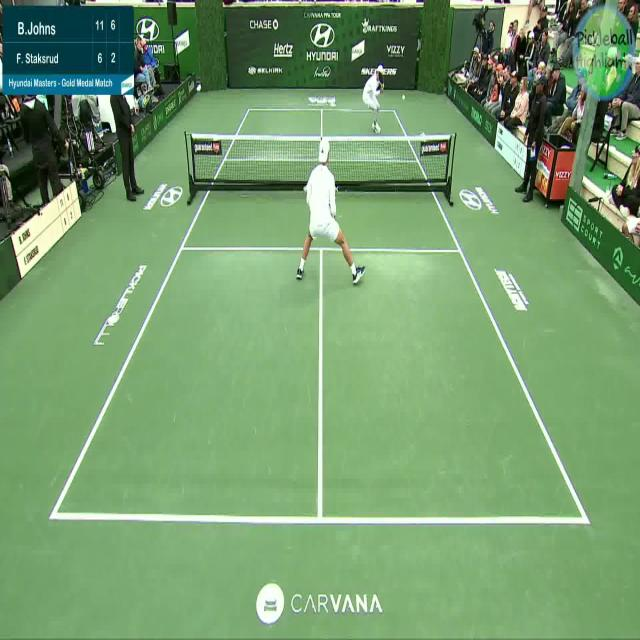ball: (400, 92, 406, 102)
